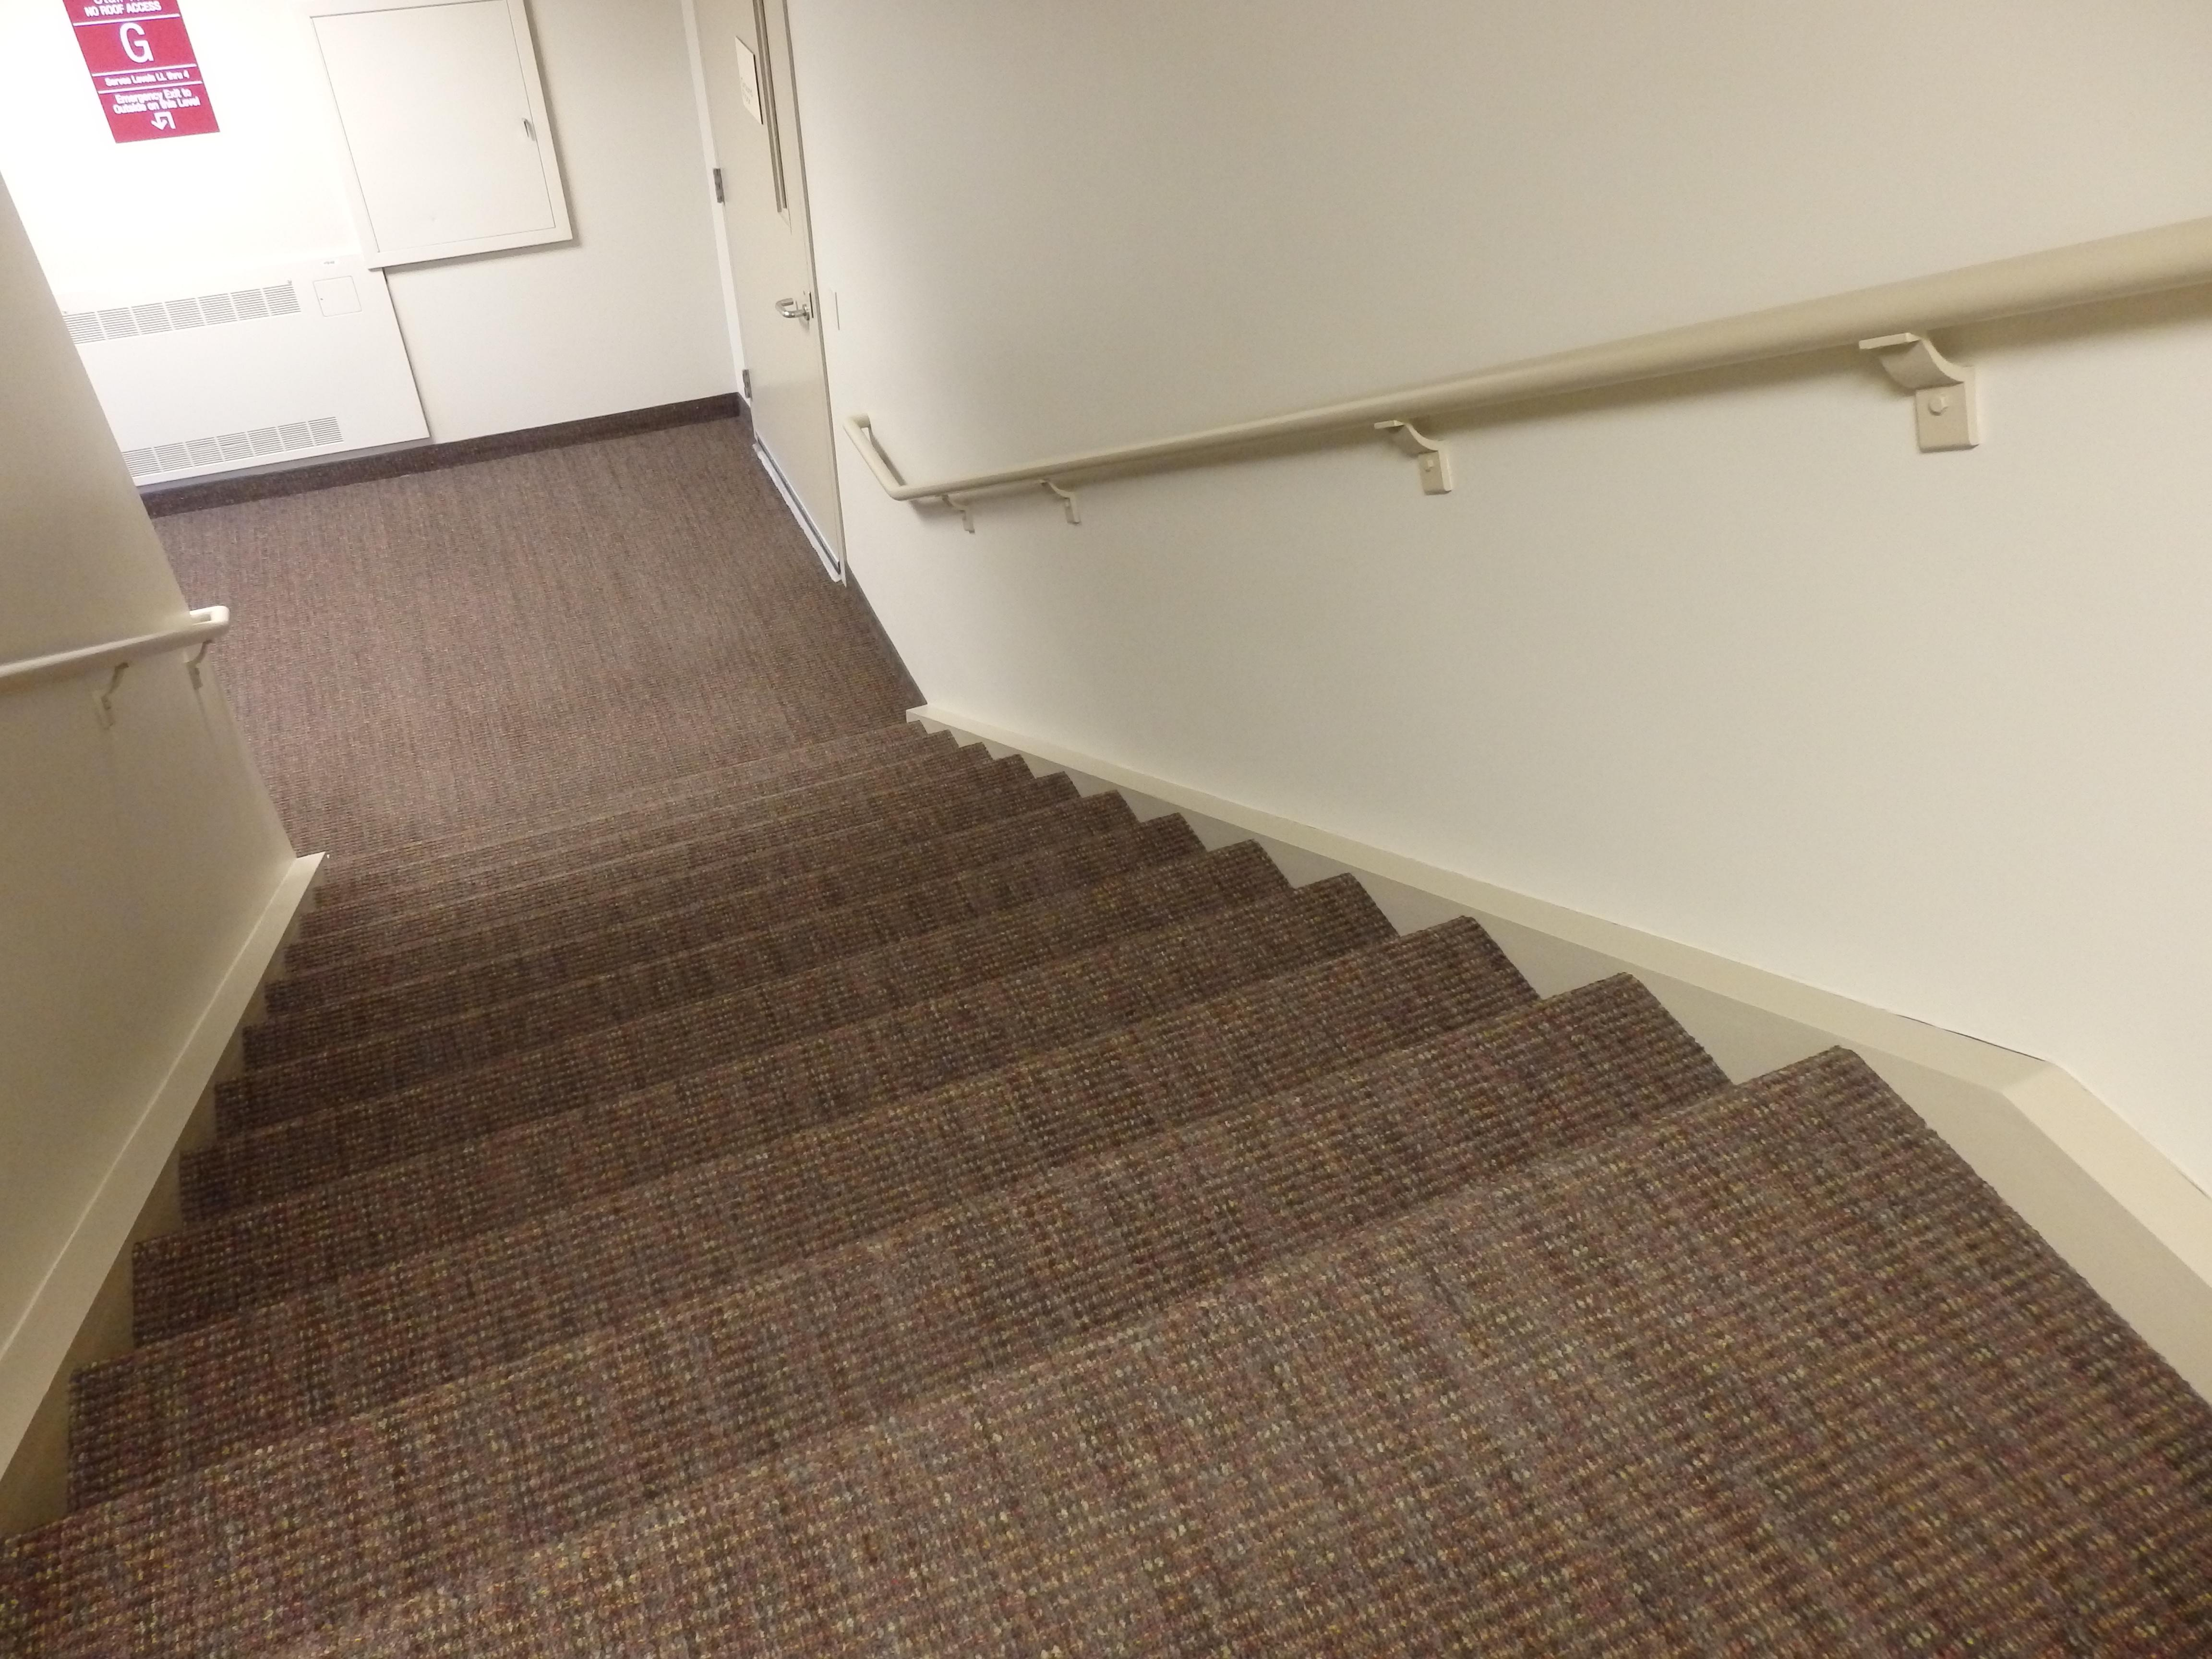stairs_down: (63, 695, 1726, 1523)
